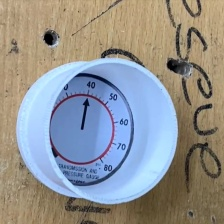gauge: (50, 73, 132, 186)
